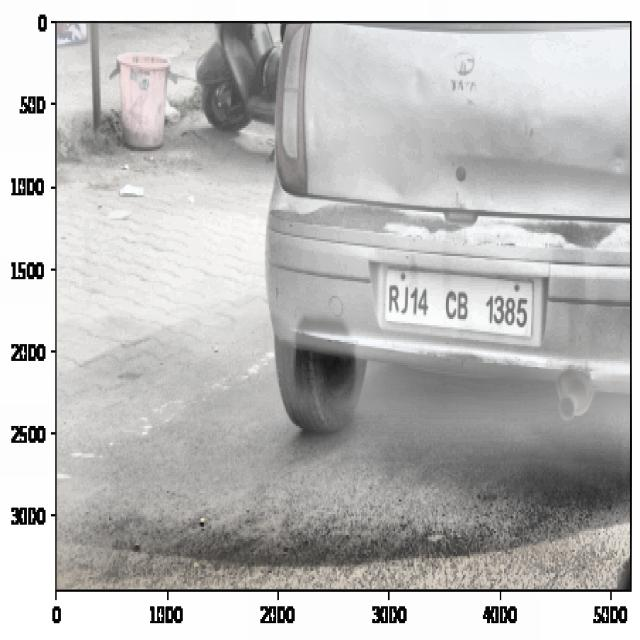license_plate: (381, 272, 534, 336)
